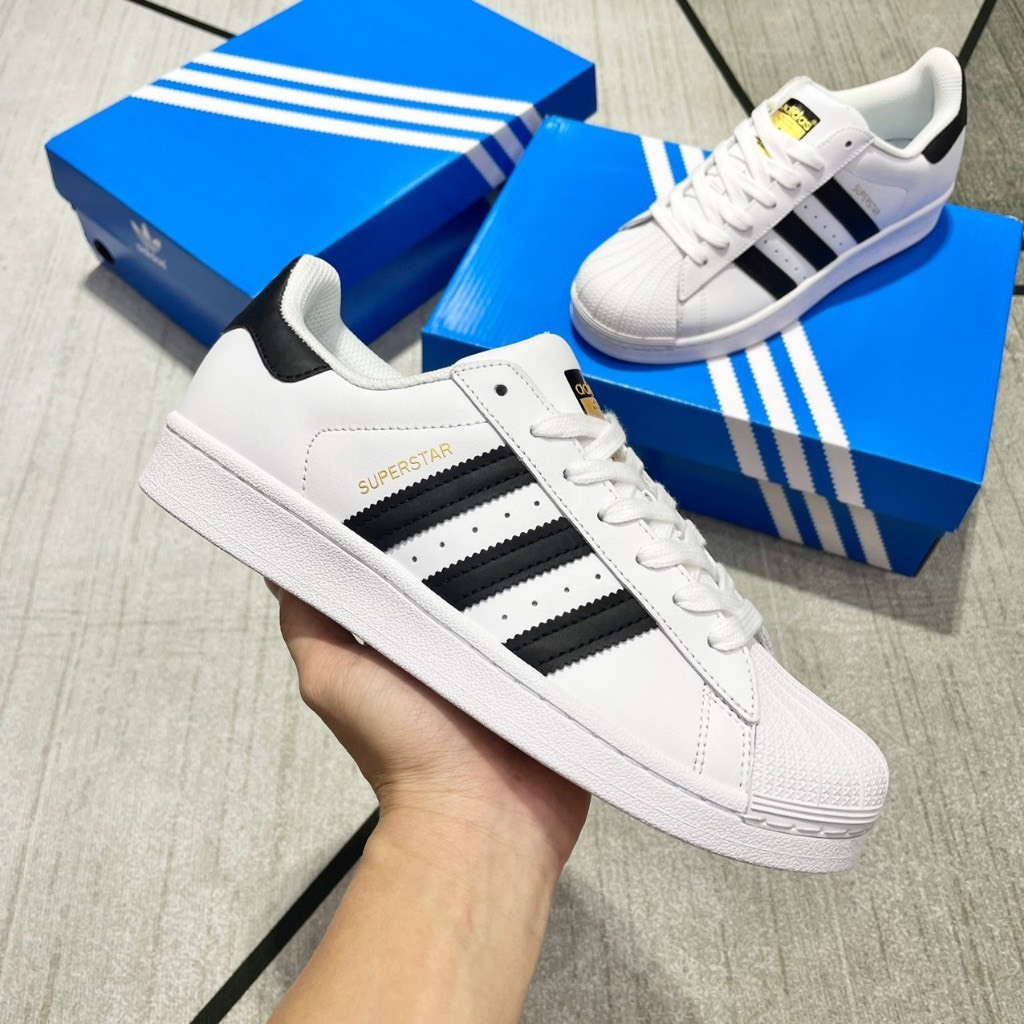sneakers: (136, 251, 891, 878), (568, 44, 967, 363)
